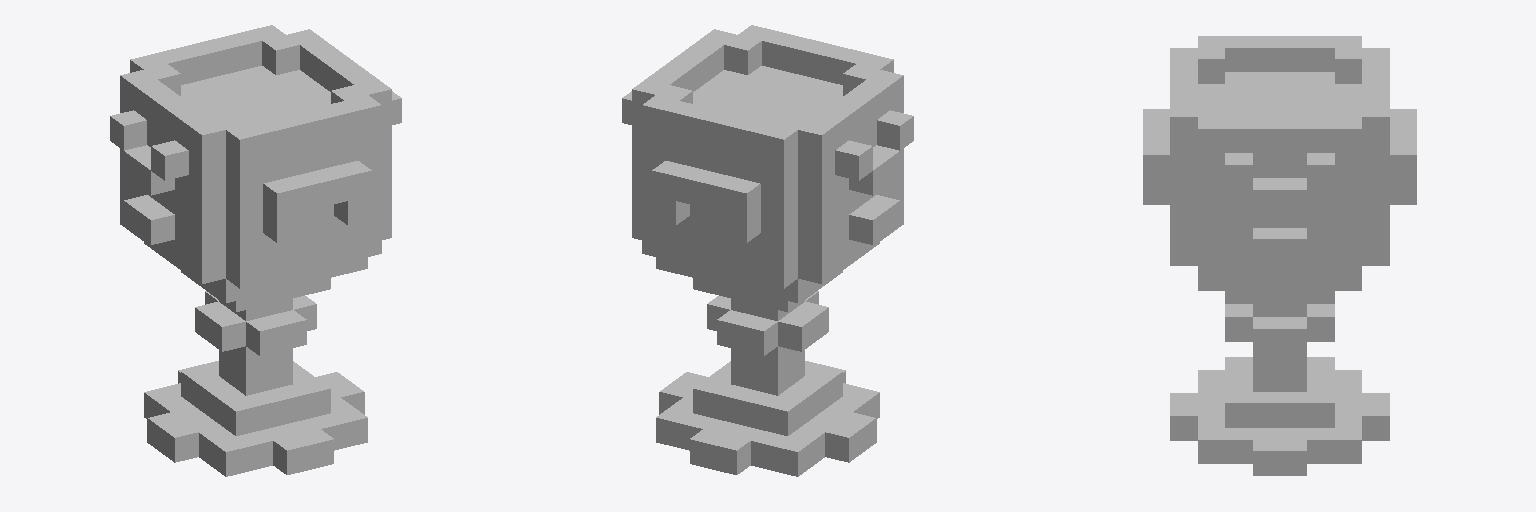
The model's file is GoldCup.obj.
The picture shows the model from 3 angles: view 1: azimuth 30°, elevation 25°; view 2: azimuth 150°, elevation 25°; view 3: azimuth 270°, elevation 25°; orthographic projection.
Visible parts, largest first — view 1: GoldCup; view 2: GoldCup; view 3: GoldCup.
Boxes of the visible parts, <box> form: GoldCup: <box>110,25,401,476</box>; GoldCup: <box>622,25,913,476</box>; GoldCup: <box>1143,36,1416,475</box>.
Bounding box in the file's own units: 1 × 1.4 × 1.